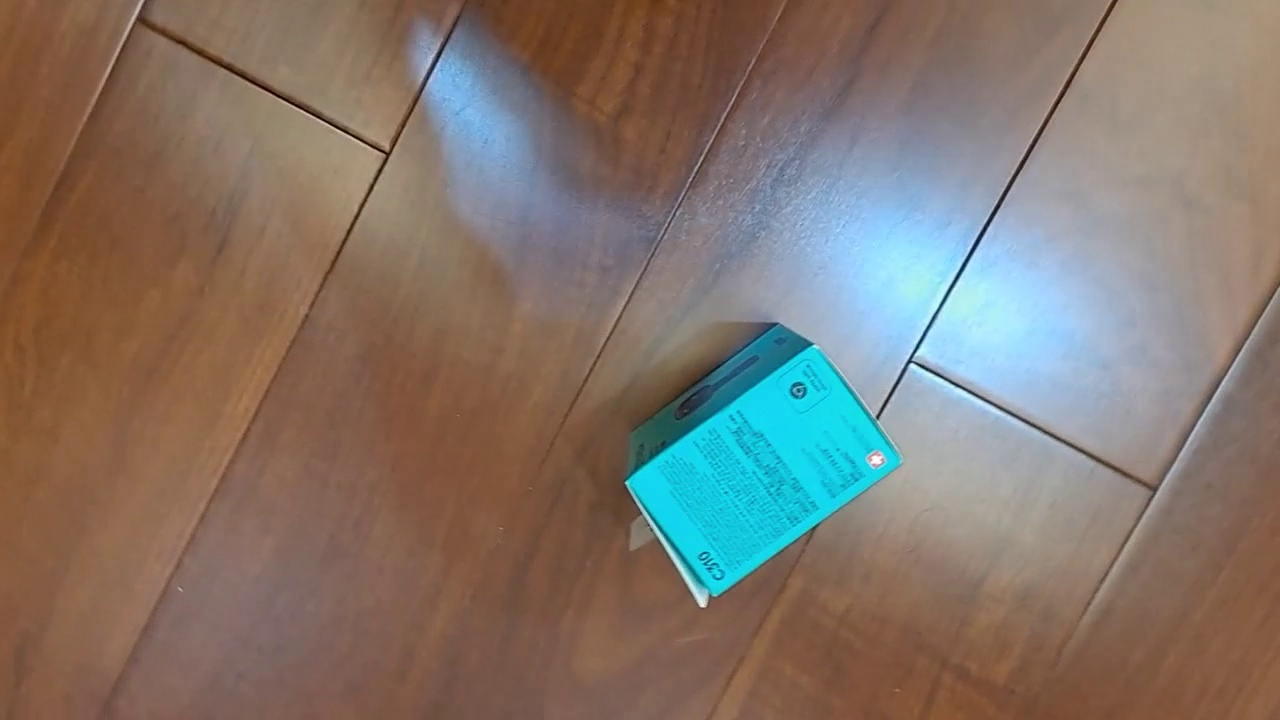webcam: (622, 322, 906, 609)
